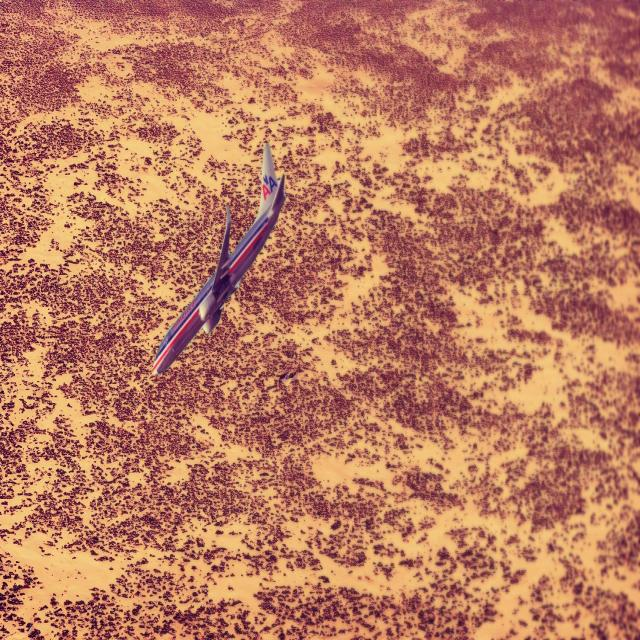airplane: (151, 140, 286, 377)
